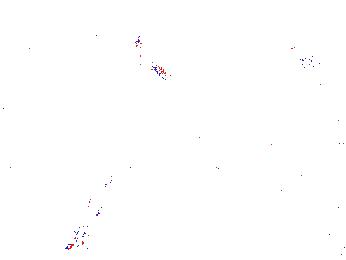X-ray fish: (216, 170, 241, 216)
glassfish: (75, 158, 135, 254), (191, 132, 260, 198)
red belly glassfish: (291, 43, 310, 65)
redtail glassfish: (131, 31, 170, 81)
